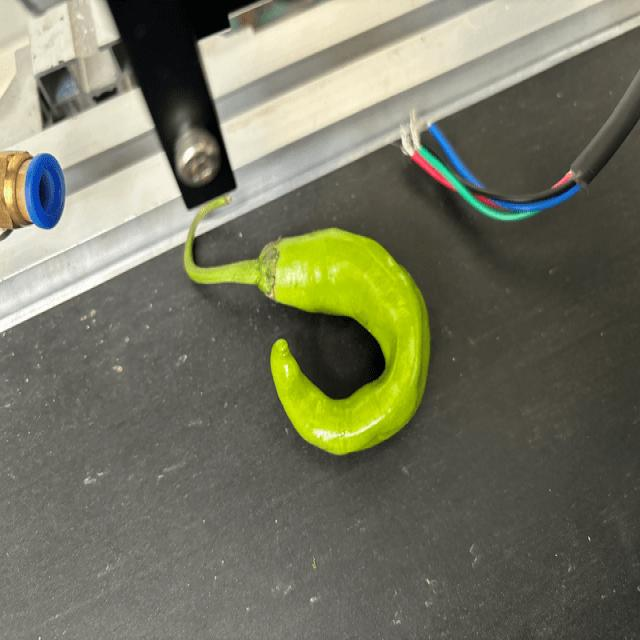chili: (256, 226, 432, 457)
